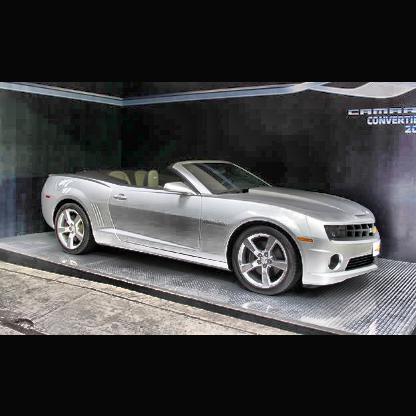Chevrolet Camaro Convertible 2012: (42, 158, 386, 299)
